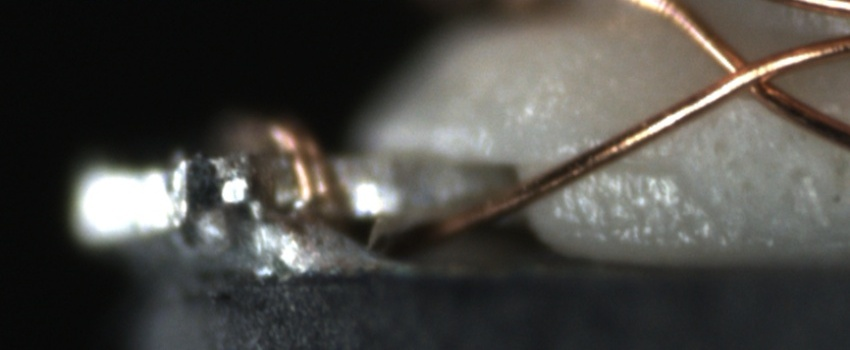CL: (703, 41, 805, 107)
DL: (549, 145, 671, 193)
TE: (271, 114, 343, 220)
